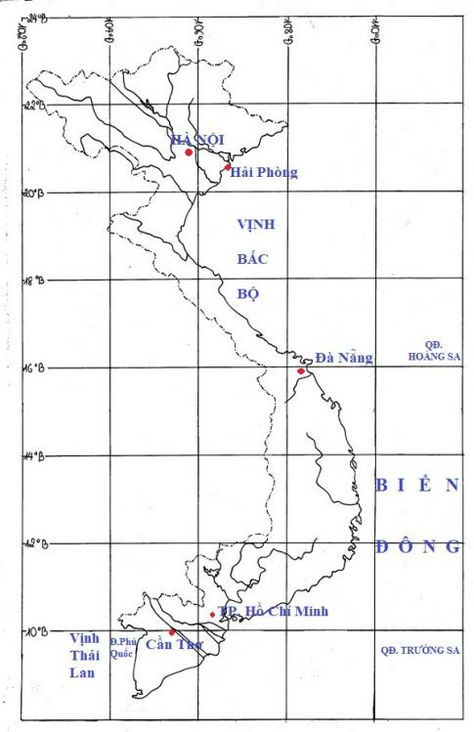Island: (380, 636, 466, 665), (403, 331, 461, 365)
